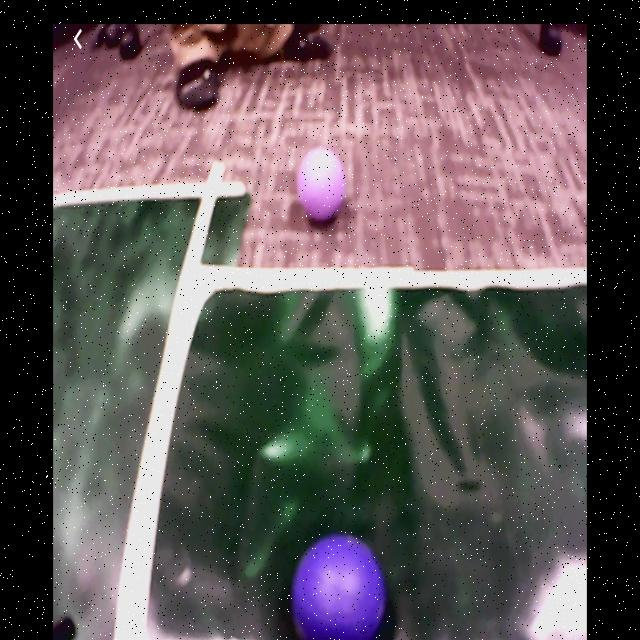ball: (296, 536, 386, 639), (299, 149, 345, 221)
